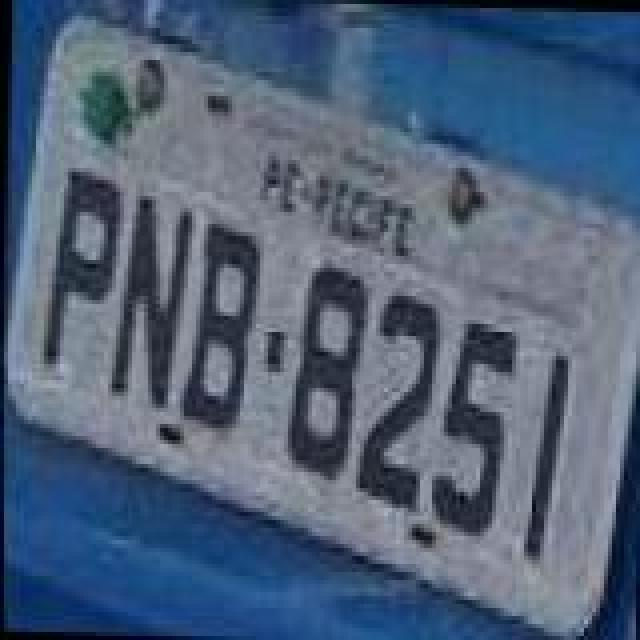1: (514, 346, 570, 566)
2: (356, 286, 444, 510)
5: (428, 320, 520, 540)
8: (280, 258, 368, 478)
B: (174, 216, 262, 432)
N: (106, 190, 194, 414)
P: (42, 164, 126, 372)
